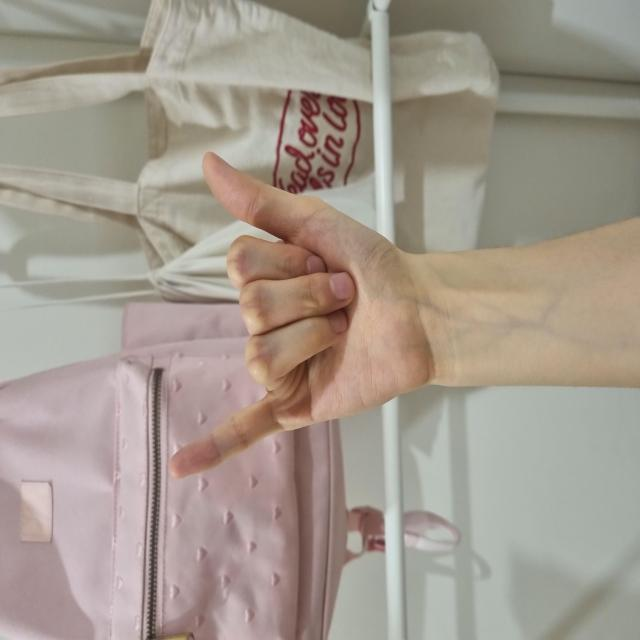Y: (136, 135, 461, 510)
